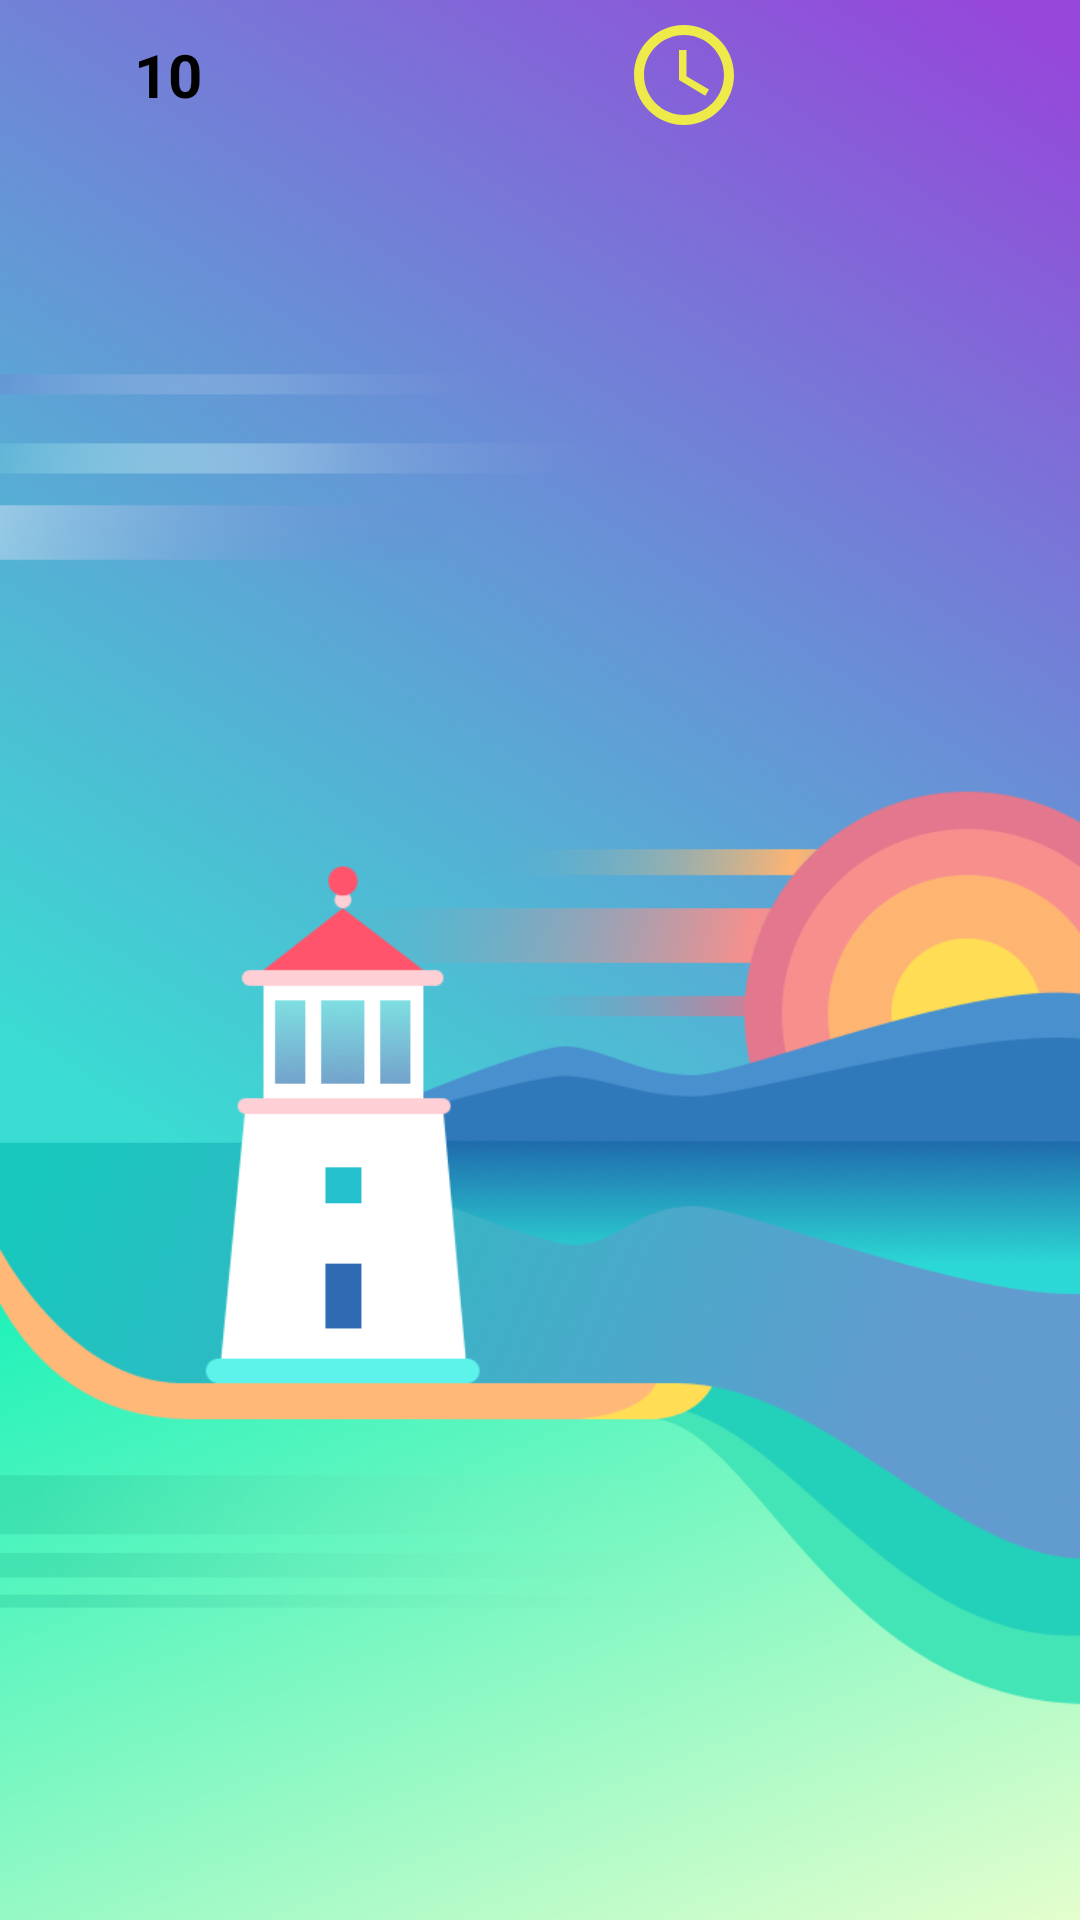

Named icons in this screenshot (1080px x 1920px) and their bounding boxes, (x1, y1, x2, y2):
access time: (634, 25, 734, 125)
